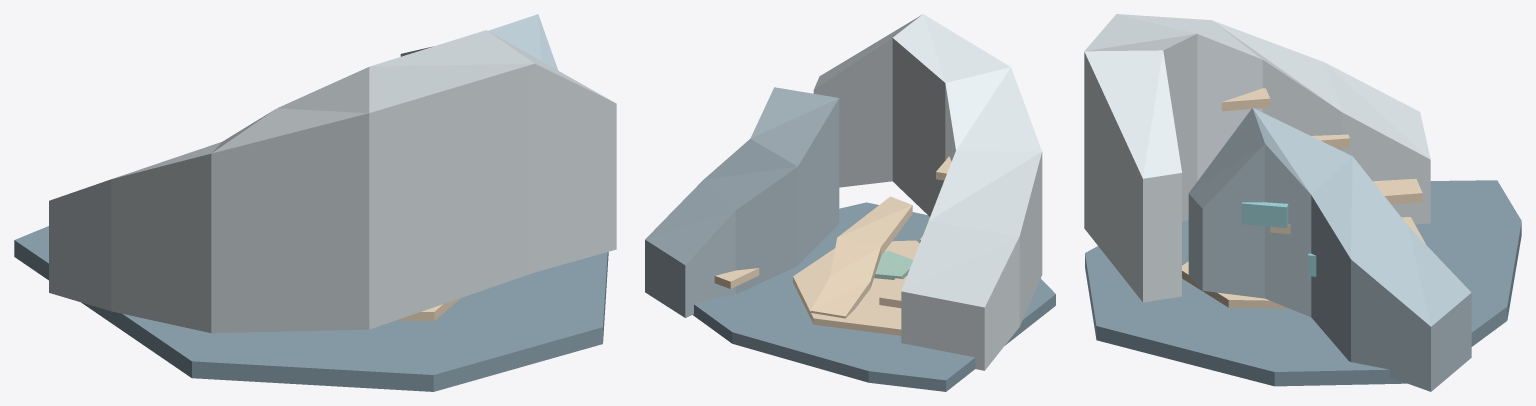
3 renders of one model, left to right at view 1: azimuth 30°, elevation 25°; view 2: azimuth 150°, elevation 25°; view 3: azimuth 270°, elevation 25°, orthographic. The views are drawn at different scales.
Size of the model in its own units: 333 by 198 by 304.
